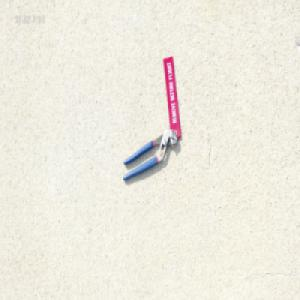Label: (163, 55, 182, 137)
Pliers: (122, 127, 178, 182)
